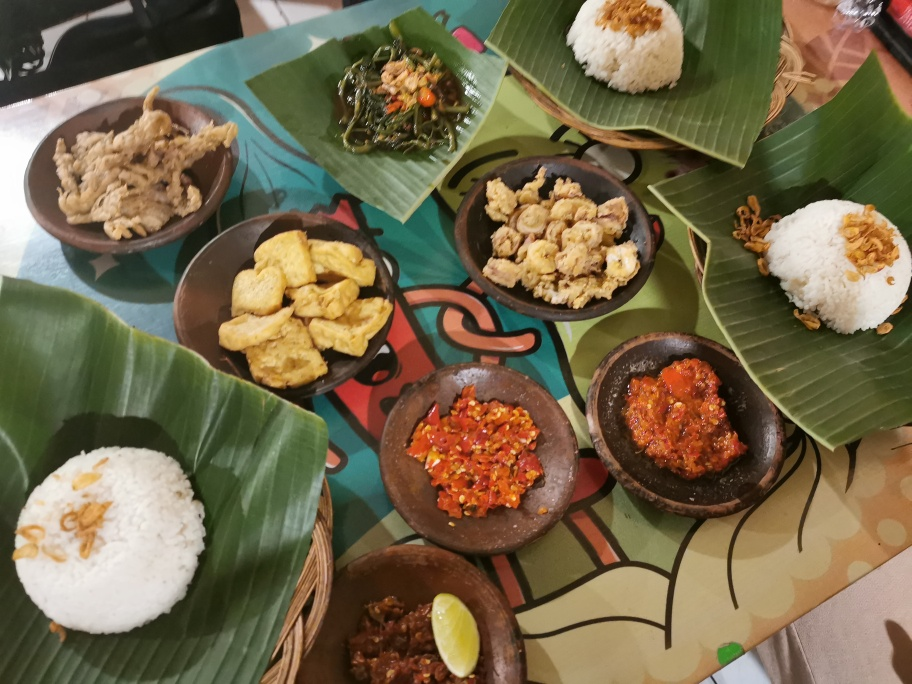nasi putih: (16, 444, 205, 635), (764, 197, 912, 337), (568, 1, 684, 96)
